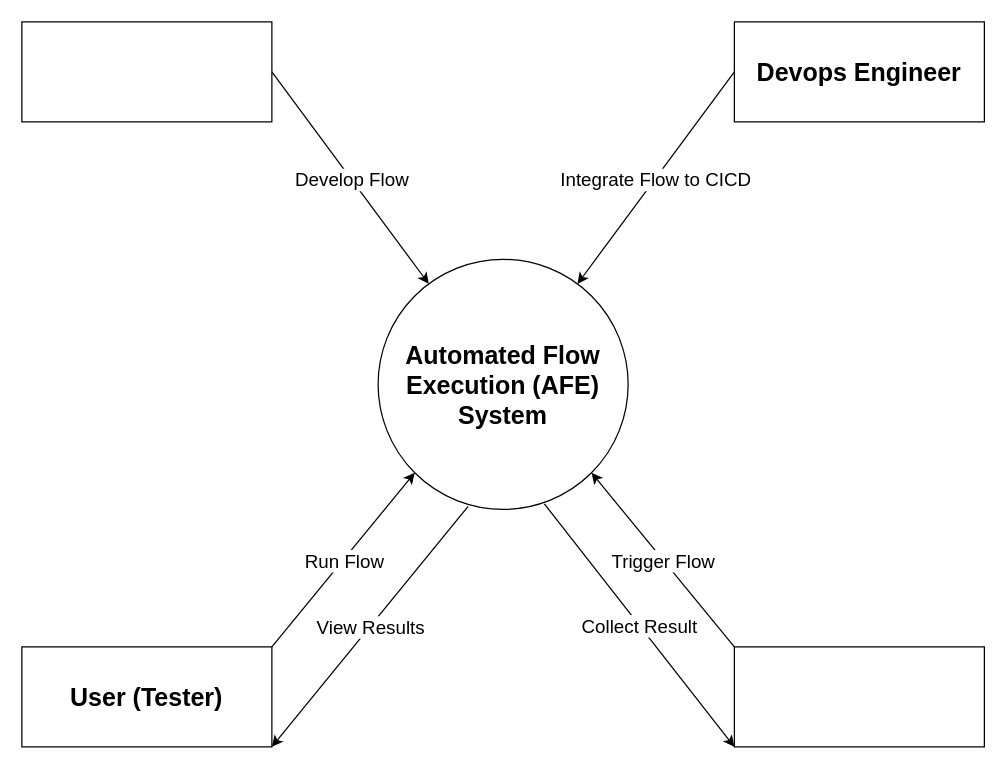
This 1006x779 diagram has some shape labels left out. The shapes that lost their labels are listed below. From the top down, each one's centre as x and y in pixels, then its label:
At pixel 146 71: "Developer".
At pixel 858 696: "IT Automation System".
